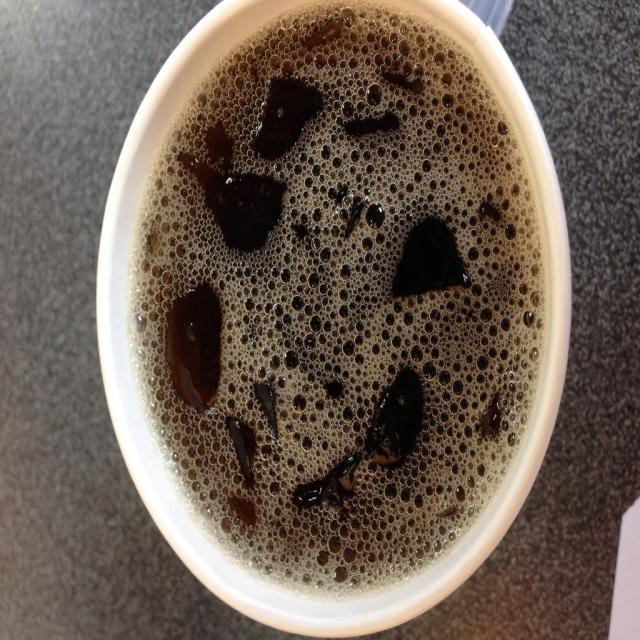latte: (96, 2, 573, 640)
